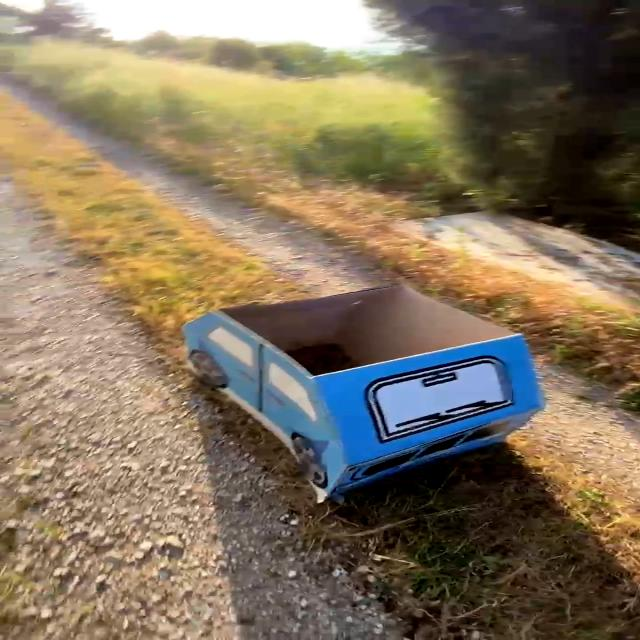blue_car: (125, 268, 582, 521)
